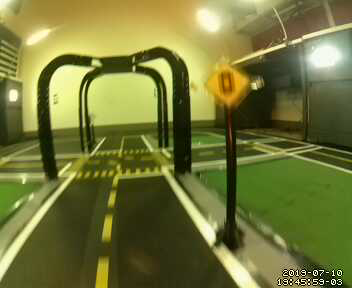Traffic light sign: (202, 66, 252, 104)
